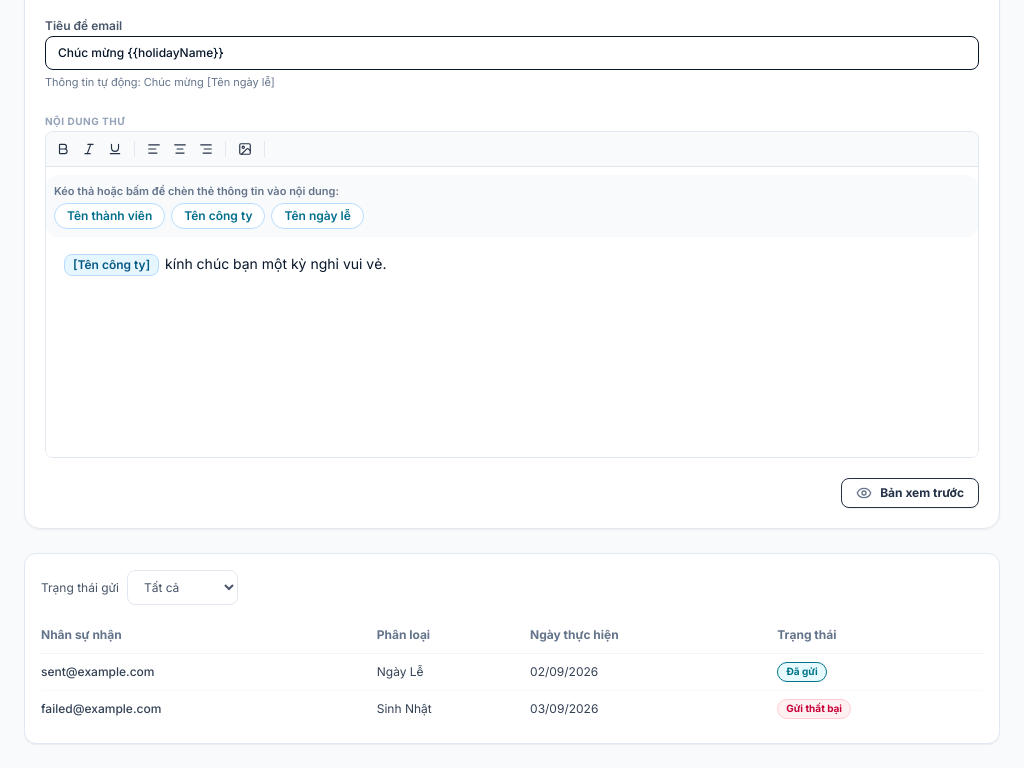
Scenario: CelebrationEmailTab variable palettes › filters delivery history and displays a useful empty state
(page scrolled)
Check: the text "sent@example.com" is shown, box [41,654,377,690]
Select "Gửi thất bại" in the dropdown labelled "Trạng thái gửi" at (182, 588), box [127,570,238,605]
(page scrolled)
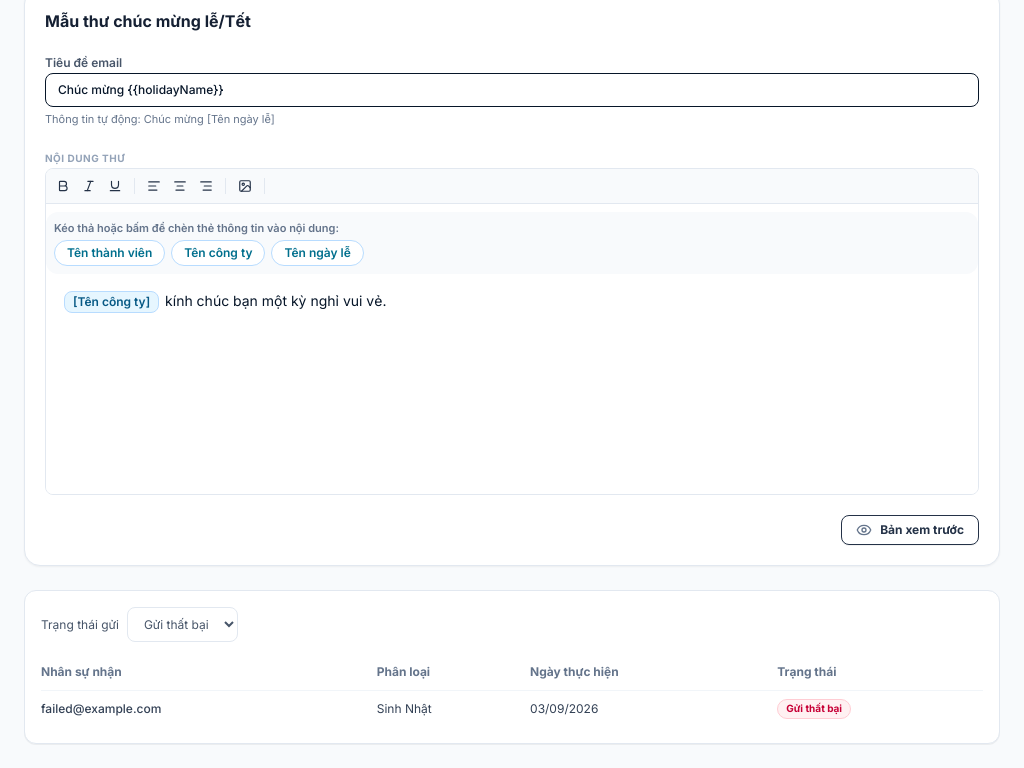
Check: the text "failed@example.com" is shown, box [41,690,377,727]
Check: the text "sent@example.com" is gone
Select "Đang gửi" in the dropdown labelled "Trạng thái gửi" at (182, 624), box [127,607,238,642]
(page scrolled)
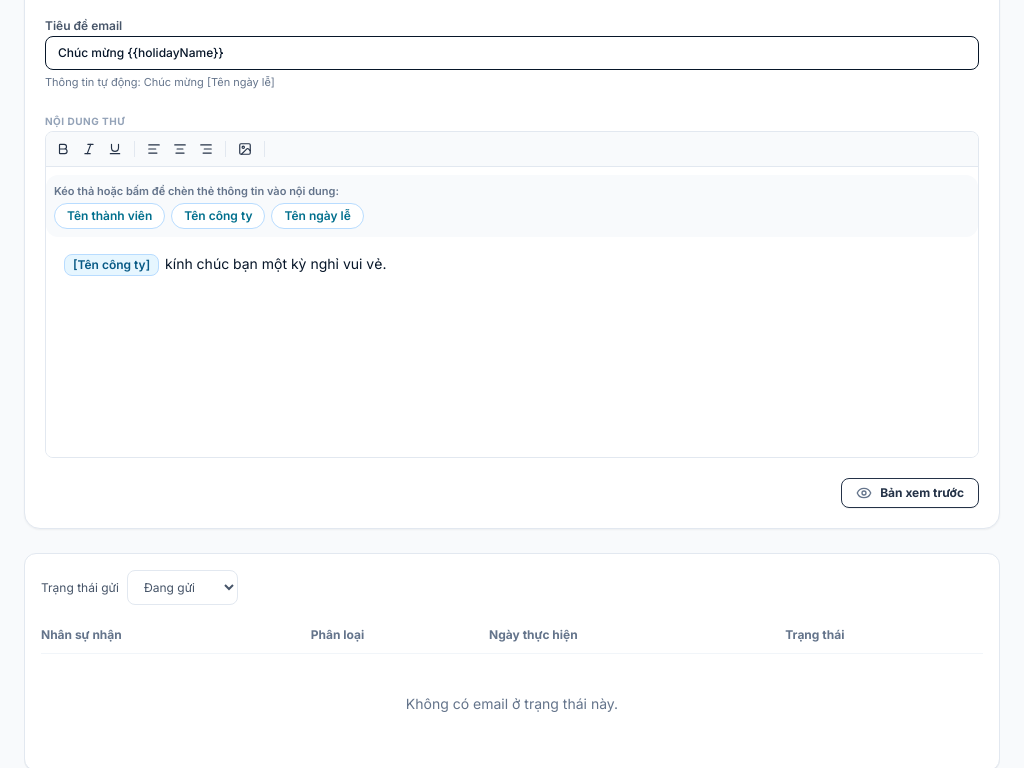
Check: the text "Không có email ở trạng thái này." is shown, box [41,654,983,754]
